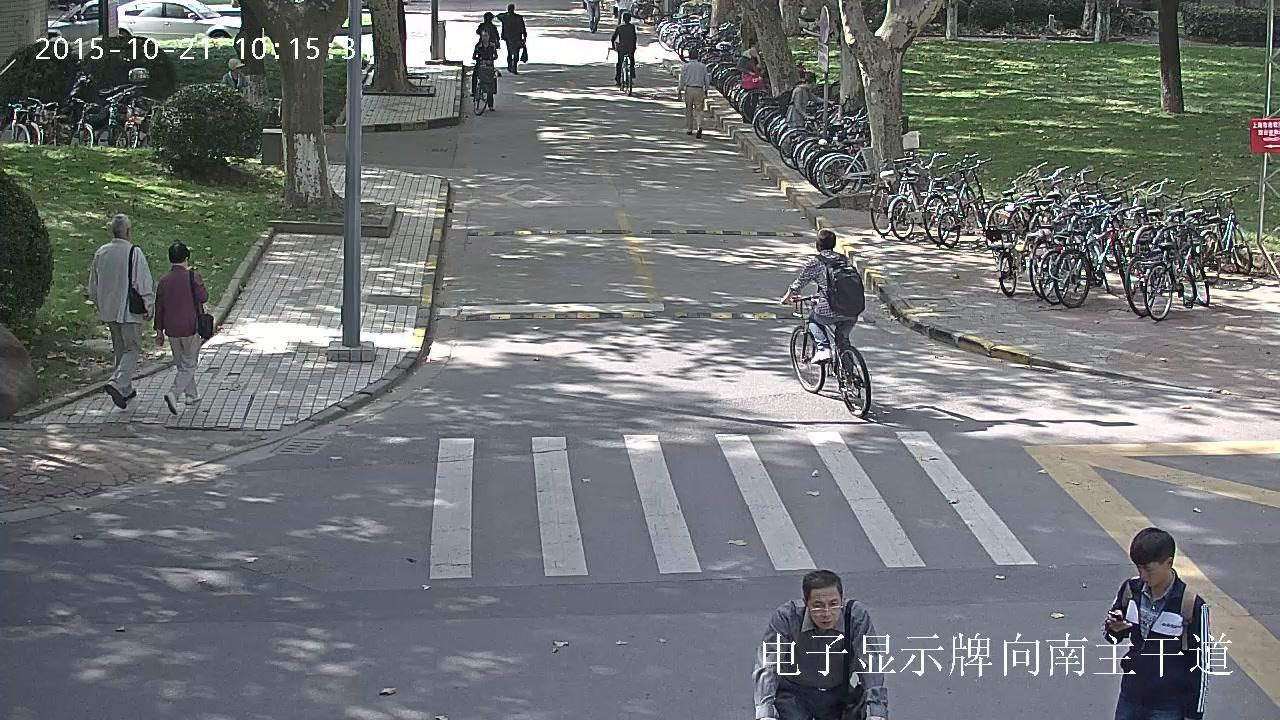face: (808, 586, 842, 630), (1140, 561, 1167, 586), (481, 30, 488, 41), (753, 42, 759, 51), (807, 81, 814, 87), (235, 66, 240, 73)
